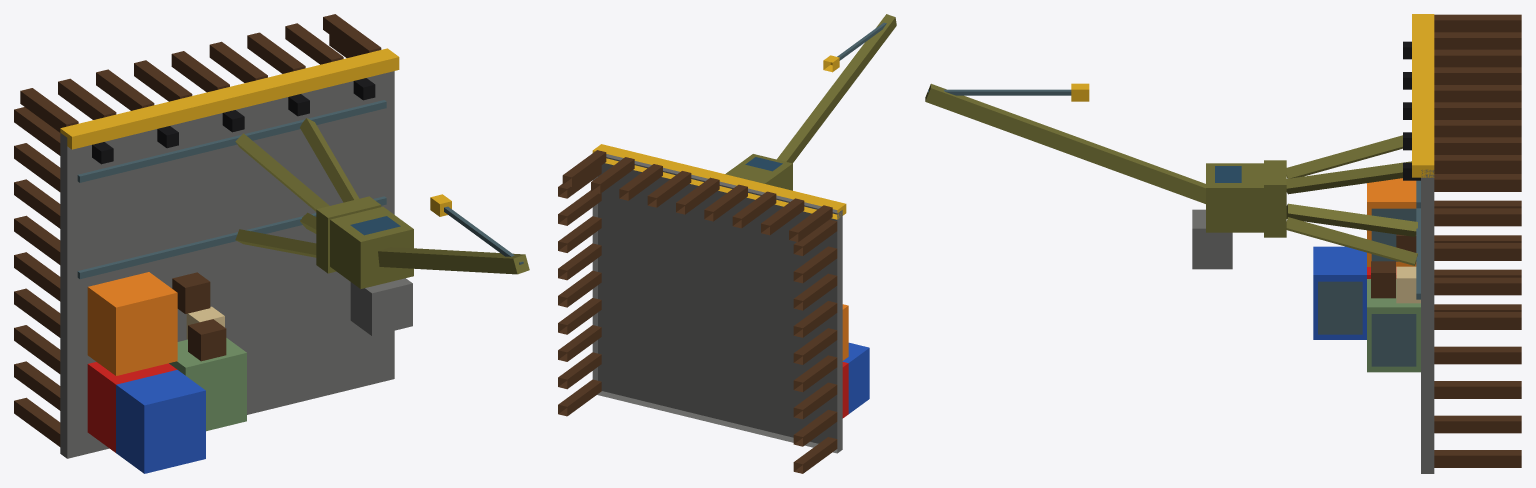
Rendered from water.glb.
3 renders of one model, left to right at view 1: azimuth 30°, elevation 25°; view 2: azimuth 150°, elevation 25°; view 3: azimuth 270°, elevation 25°, orthographic. The views are drawn at different scales.
Visible parts, largest first — view 1: dock_water; view 2: dock_water; view 3: dock_water.
Part boxes in pixels (x1,y1,x2,y2): dock_water: (14,14,529,473); dock_water: (558,14,896,473); dock_water: (925,14,1521,473).
Bounding box in the file's own units: 16 × 16.1 × 26.63.
